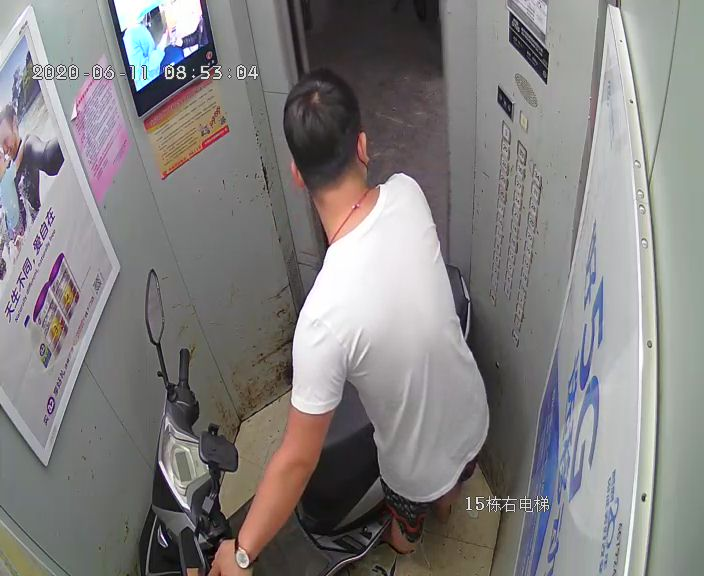Electric-bicycle: (135, 265, 475, 575)
